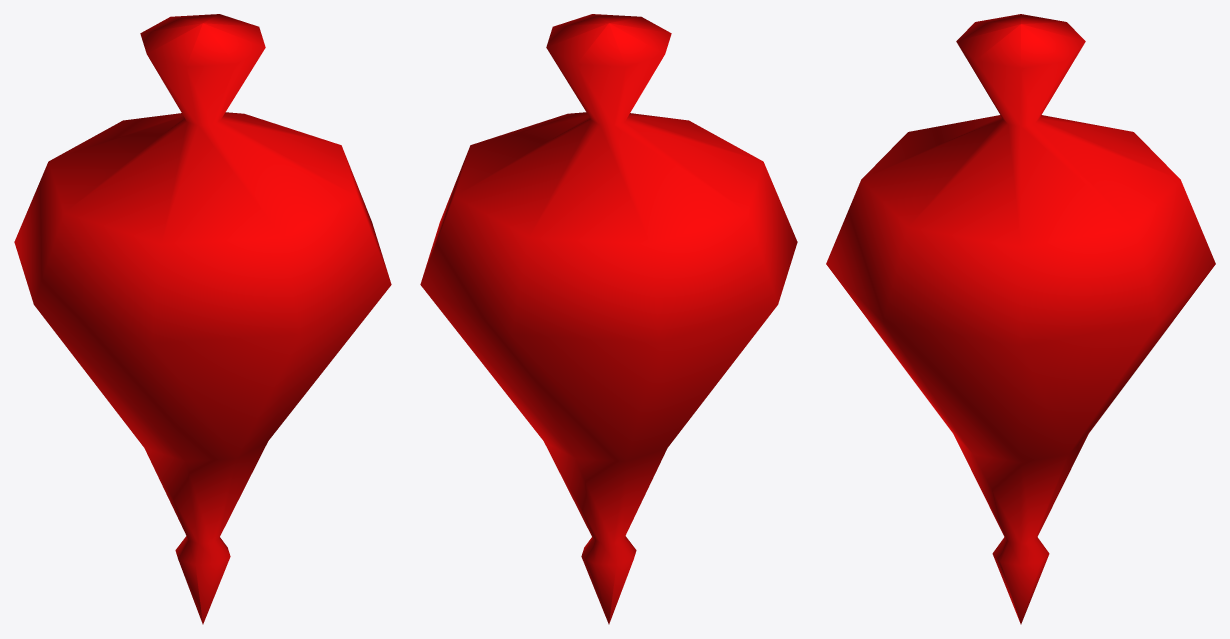
Rendered from piao_vermelho.FBX.
3 renders of one model, left to right at view 1: azimuth 30°, elevation 25°; view 2: azimuth 150°, elevation 25°; view 3: azimuth 270°, elevation 25°, orthographic.
Parts seen in each view (by area): view 1: Piao_vermelho; view 2: Piao_vermelho; view 3: Piao_vermelho.
Part boxes in pixels (x1=…): Piao_vermelho: x1=14, y1=14, x2=391, y2=624; Piao_vermelho: x1=420, y1=14, x2=797, y2=624; Piao_vermelho: x1=826, y1=14, x2=1215, y2=624.
Bounding box in the file's own units: 59.36 × 59.36 × 101.
